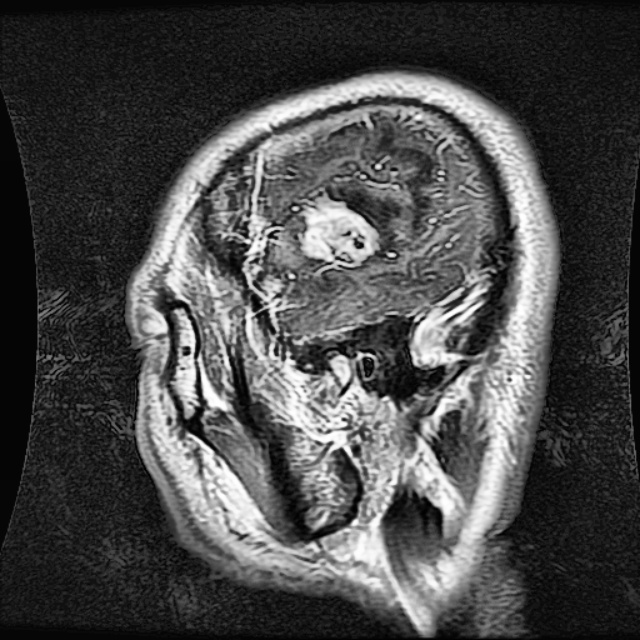Meningioma: (299, 192, 380, 259)
